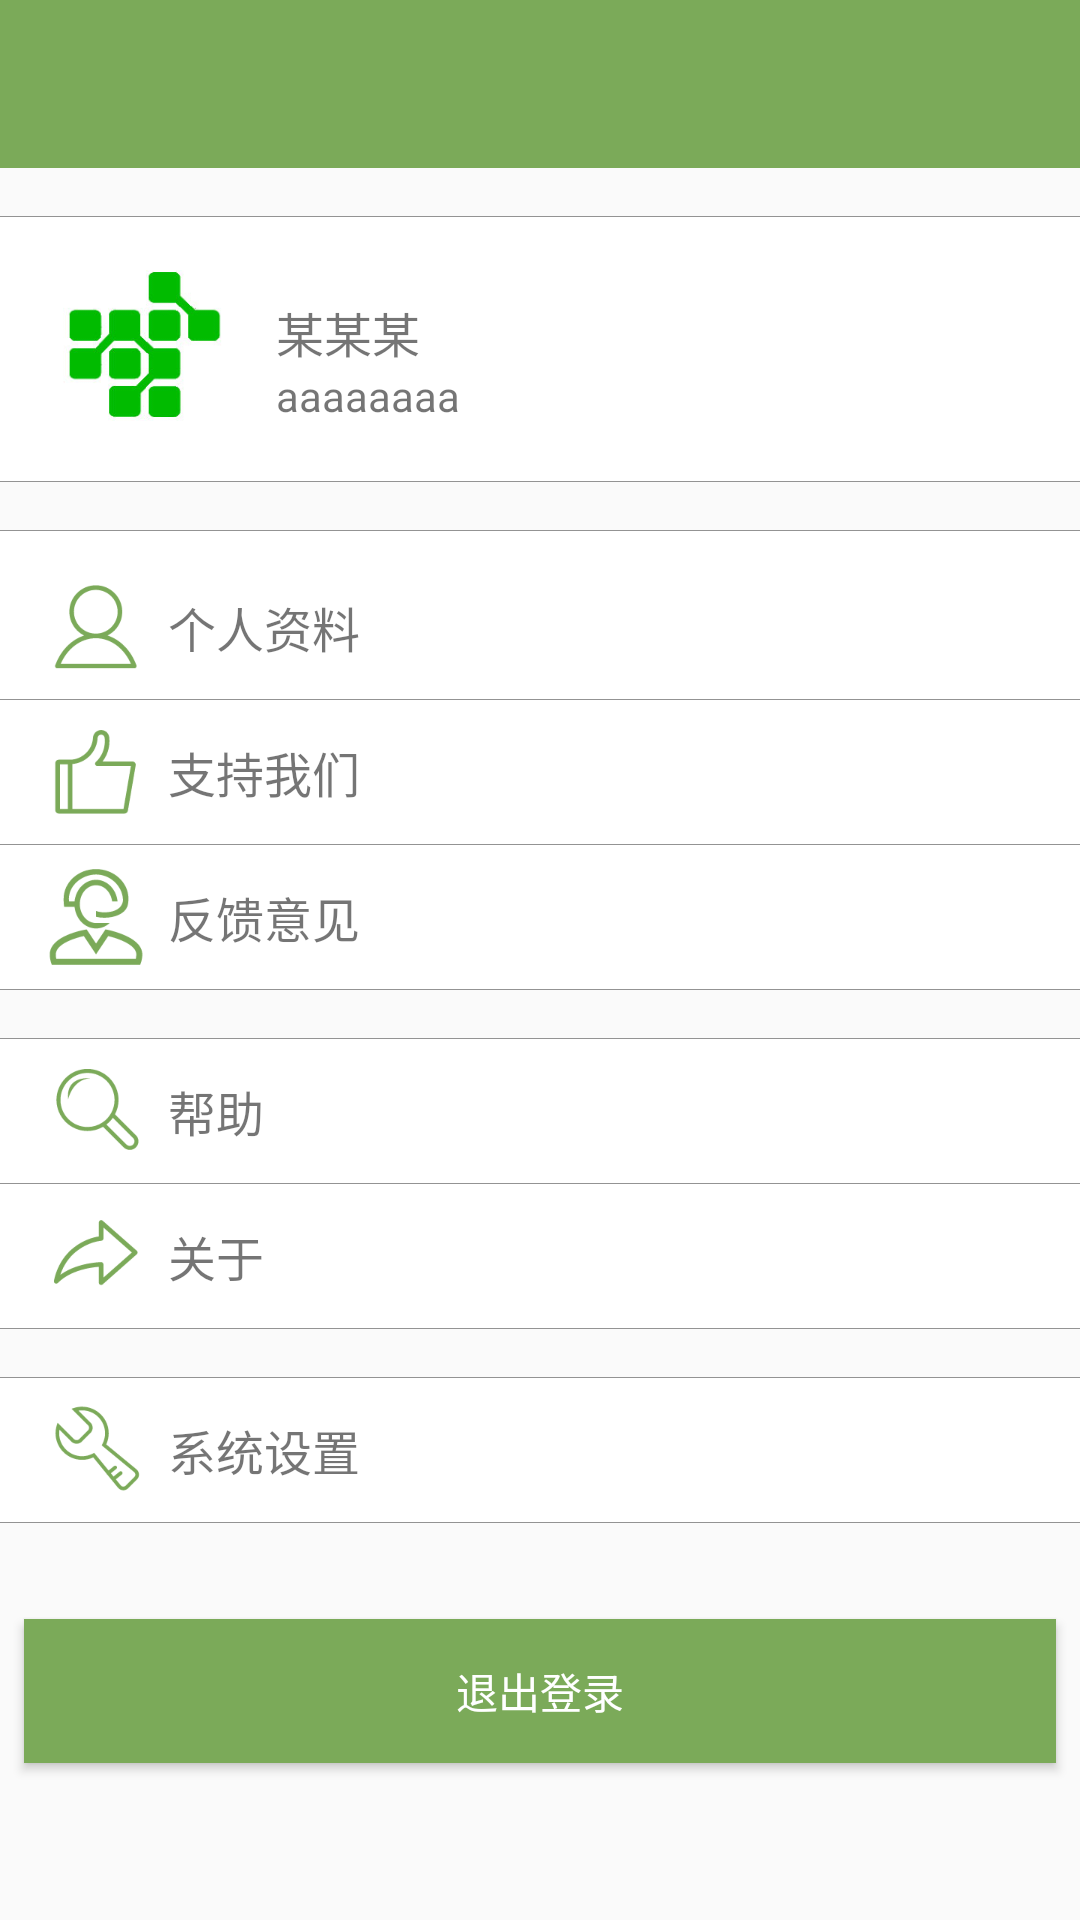

Screen size 1080px×1920px. Icon name, then its center in pixels as [x,y]:
account: [96,627]
callback: [96,917]
good: [95,772]
setting: [97,1448]
